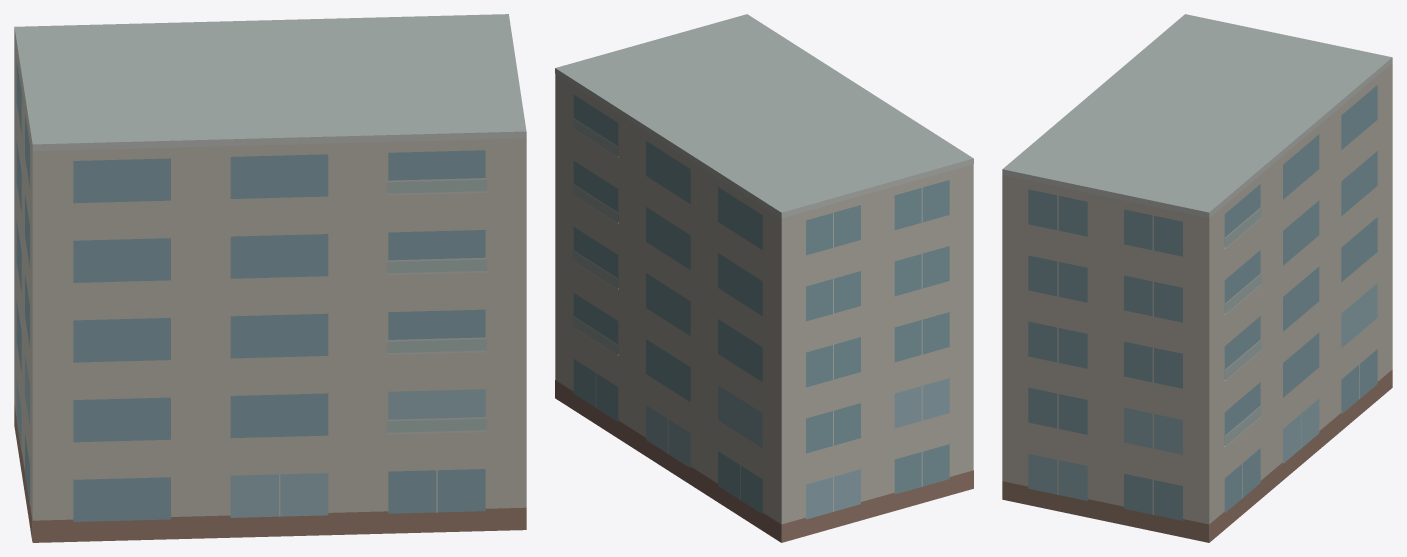
File: survey-upis-32884380.glb
3 renders of one model, left to right at view 1: azimuth 30°, elevation 25°; view 2: azimuth 150°, elevation 25°; view 3: azimuth 270°, elevation 25°, orthographic. The views are drawn at different scales.
Parts seen in each view (by area): view 1: survey-upis-32884380.tmp; view 2: survey-upis-32884380.tmp; view 3: survey-upis-32884380.tmp.
Boxes of the visible parts, x1,y1,x2,y2 form: survey-upis-32884380.tmp: (14, 14, 526, 542); survey-upis-32884380.tmp: (555, 14, 973, 542); survey-upis-32884380.tmp: (1002, 14, 1392, 542).
Size of the model in its own units: 18.31 by 14.2 by 15.21.
